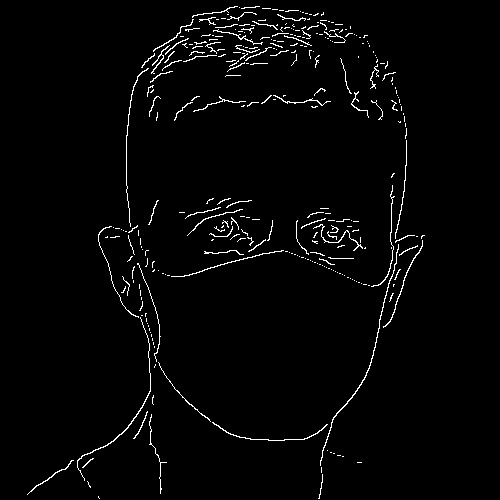mask: (146, 257, 386, 433)
